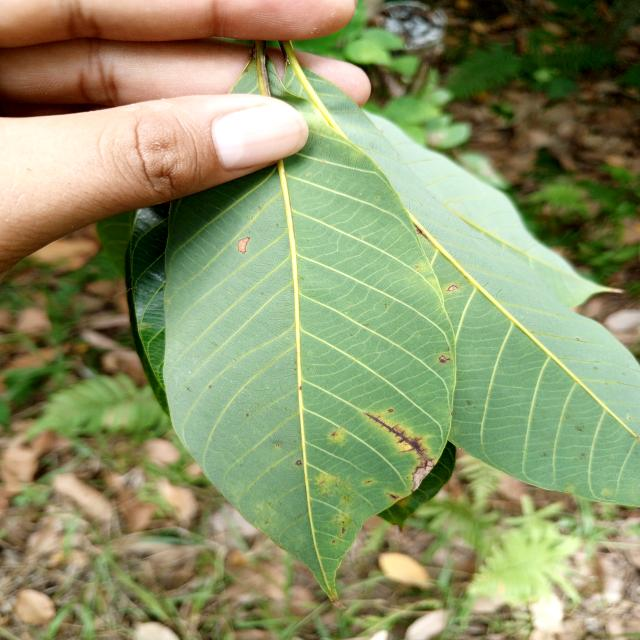Colletotrichum: (447, 285, 459, 291), (296, 460, 302, 465), (458, 447, 462, 450), (276, 444, 280, 446)
Corynespora: (365, 412, 435, 467)
Leaf-Blight: (412, 462, 435, 491), (238, 238, 248, 254)
